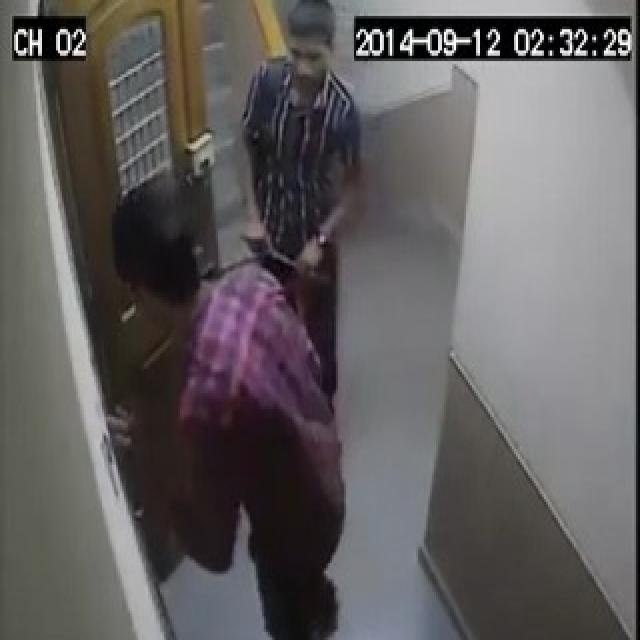thief: (127, 0, 353, 640)
